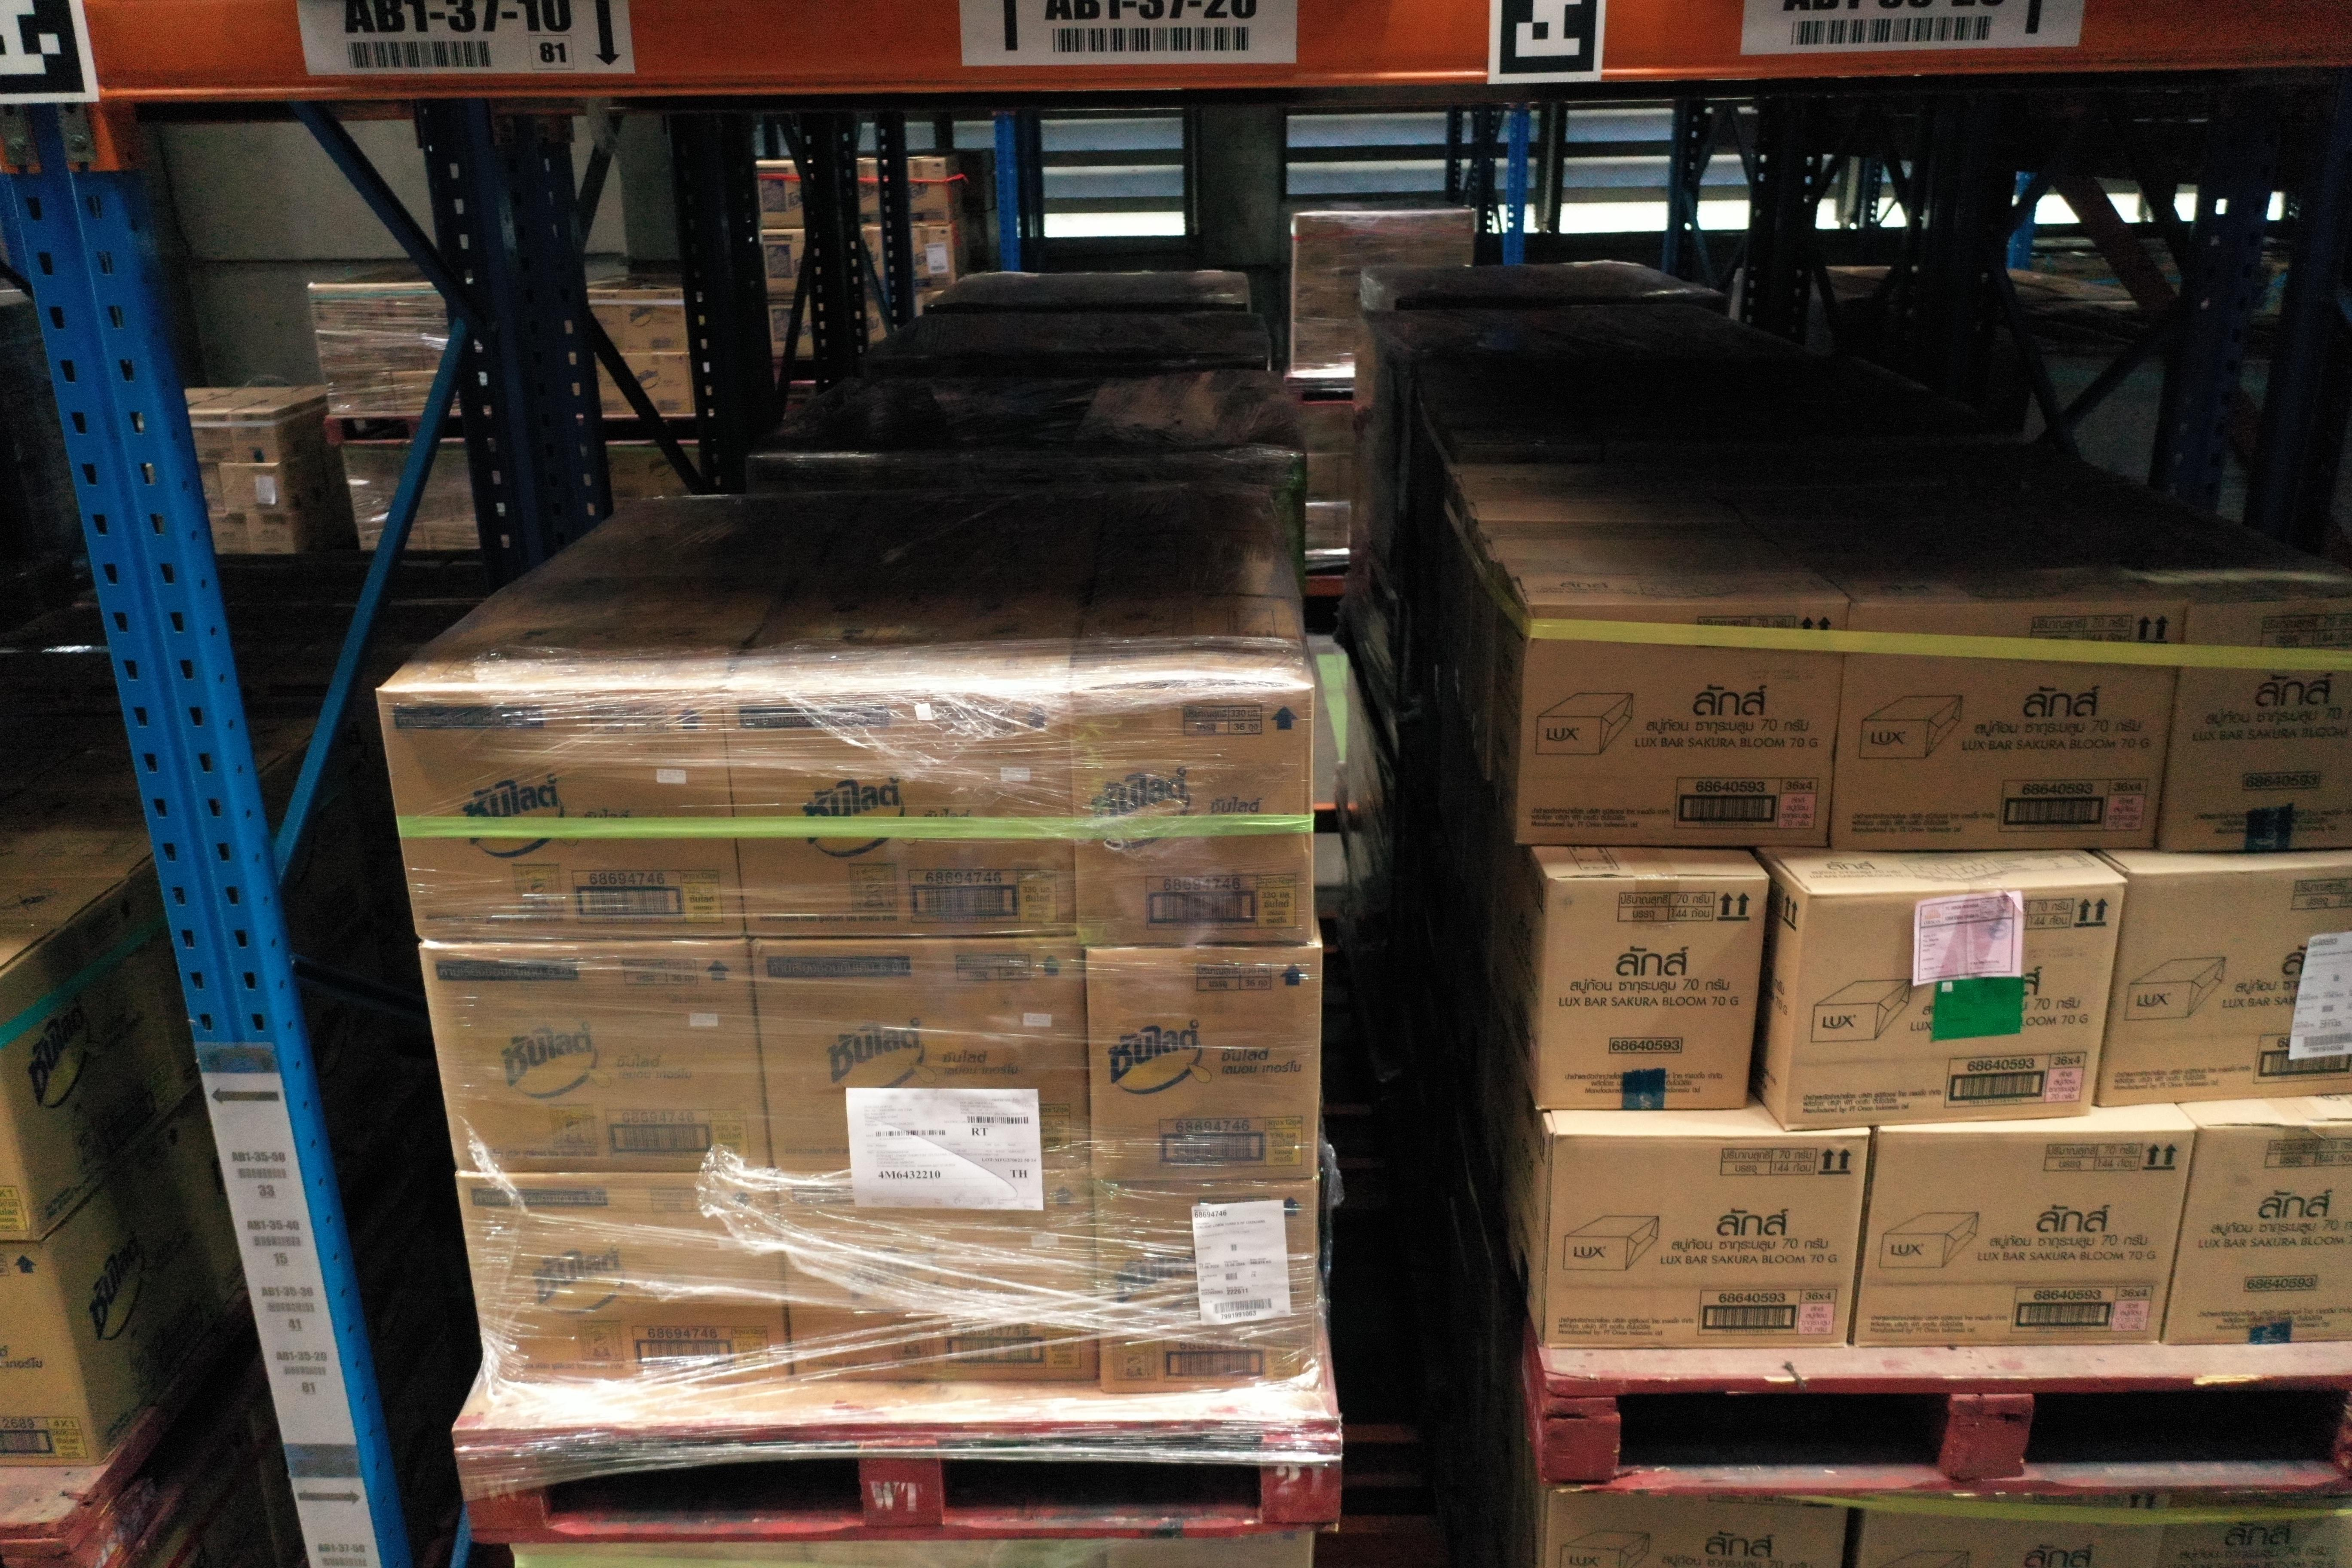-: (374, 688, 747, 943), (1830, 602, 2186, 854), (719, 689, 1076, 940), (1783, 878, 2128, 1130), (422, 940, 773, 1176), (752, 933, 1092, 1176), (1517, 605, 1850, 850), (1853, 1129, 2198, 1349), (1542, 1134, 1869, 1349), (458, 1176, 794, 1384), (775, 1167, 1099, 1382), (1071, 686, 1316, 948), (2095, 861, 2352, 1109), (1535, 877, 1769, 1113), (1092, 945, 1321, 1181), (2156, 595, 2352, 856), (1094, 1178, 1319, 1393), (2166, 1122, 2352, 1347), (1850, 1491, 2173, 1568), (1542, 1491, 1853, 1568), (0, 1241, 103, 1468), (2159, 1487, 2352, 1568)
